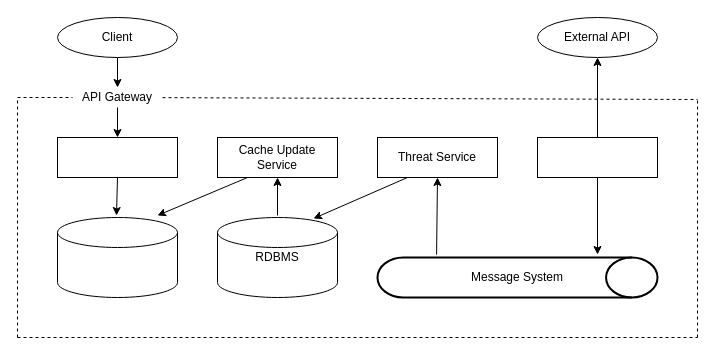
Image size: 716x356. Some labels were removed from this diagram. The centre of each missing label's shape, as x and y in pixels:
In-memory cache: the point at 117,257
Report Service: the point at 117,157
Statistics Service: the point at 597,157
